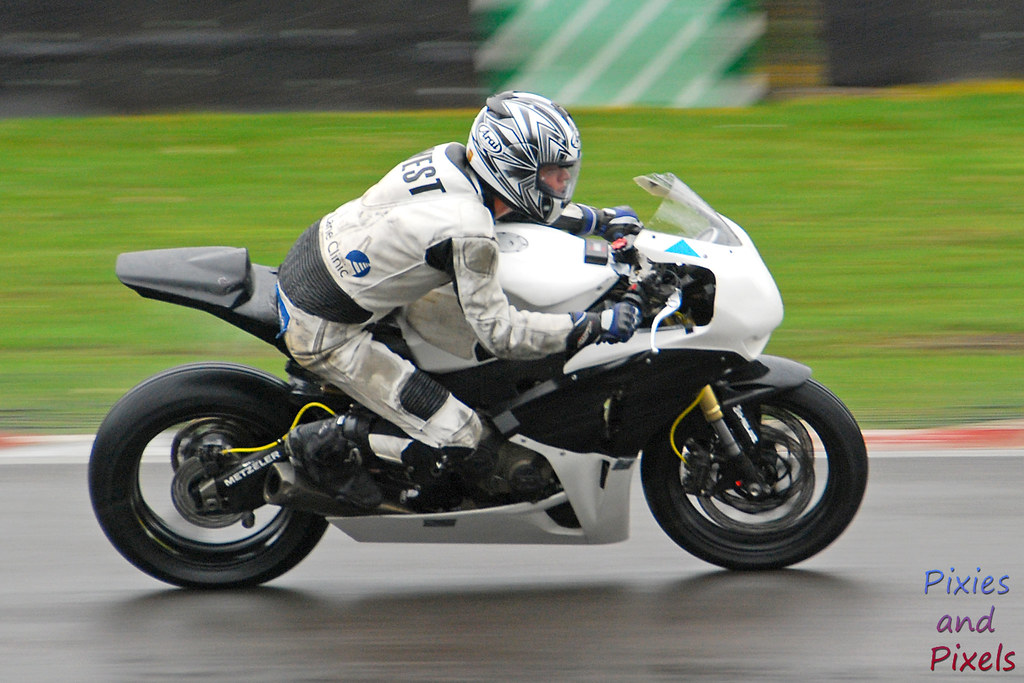helmet: (470, 94, 588, 219)
